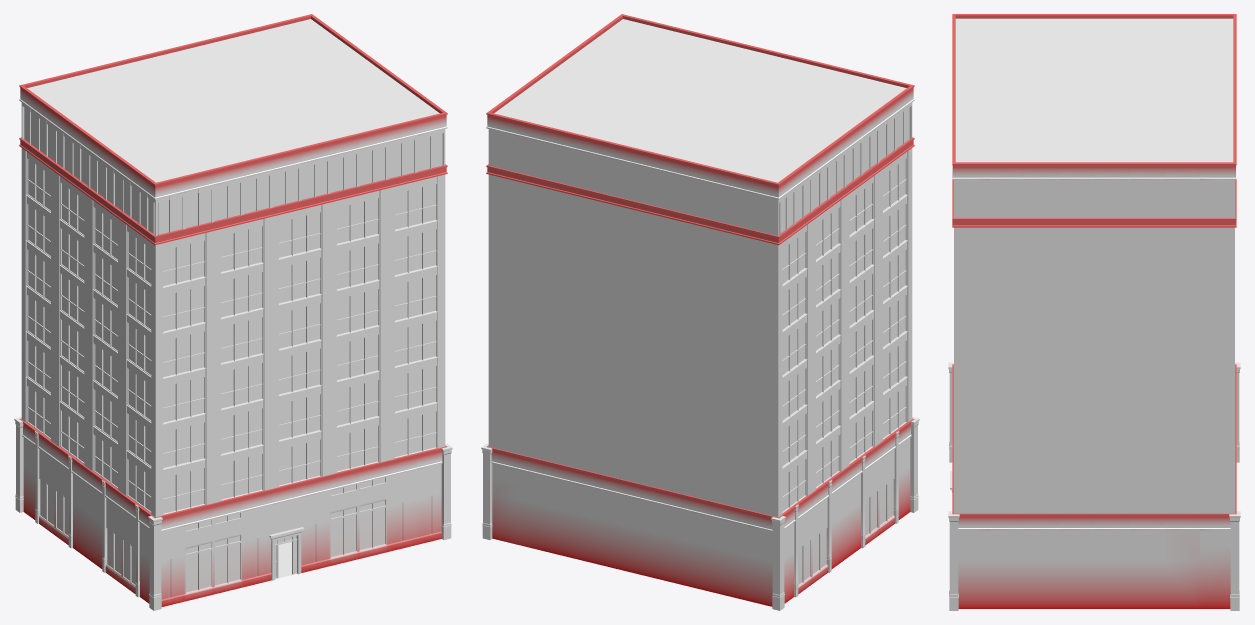
Rendered from Building_Large_2.gltf.
The picture shows the model from 3 angles, left to right: view 1: azimuth 30°, elevation 25°; view 2: azimuth 150°, elevation 25°; view 3: azimuth 270°, elevation 25°; orthographic projection. The views are drawn at different scales.
Visible parts, largest first — view 1: Building_Large_2; view 2: Building_Large_2; view 3: Building_Large_2.
Part boxes in pixels (x1,y1,x2,y2): Building_Large_2: [14, 14, 452, 610]; Building_Large_2: [481, 14, 919, 610]; Building_Large_2: [948, 14, 1240, 610].
Bounding box in the file's own units: 20.64 × 28 × 16.64.
